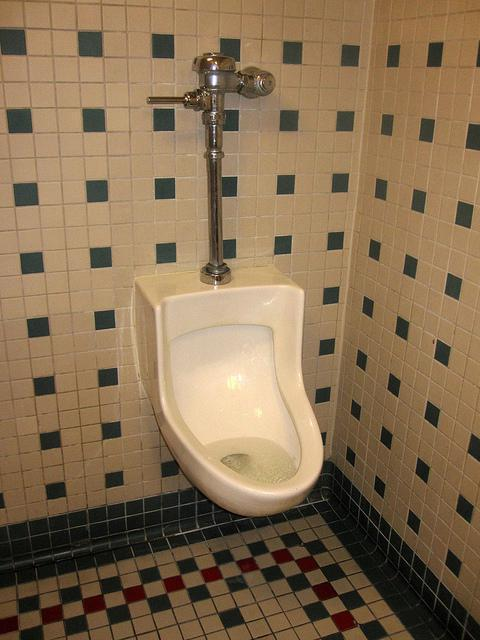Sanitario: (128, 245, 330, 524)
